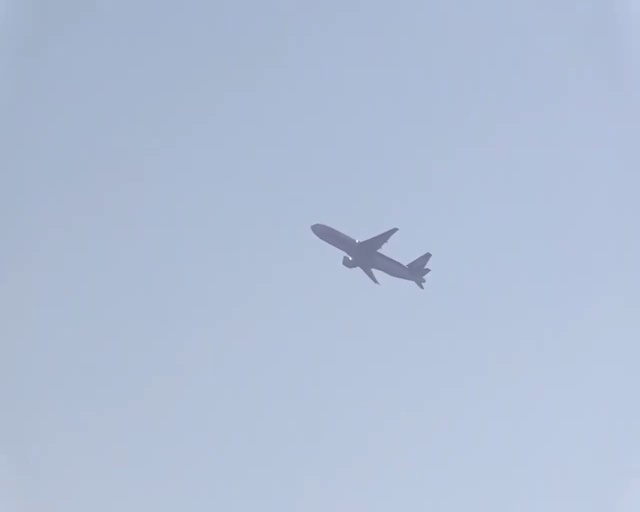AIRPLANE: (310, 221, 432, 287)
